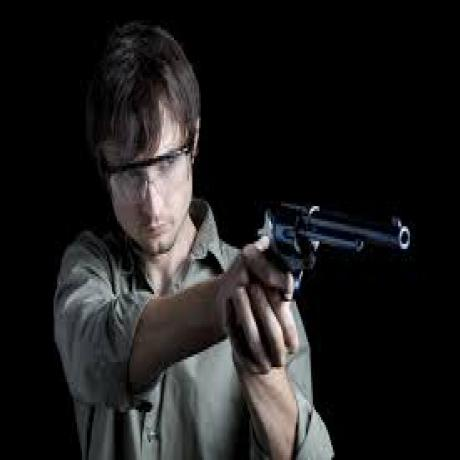Guns: (256, 185, 411, 293)
